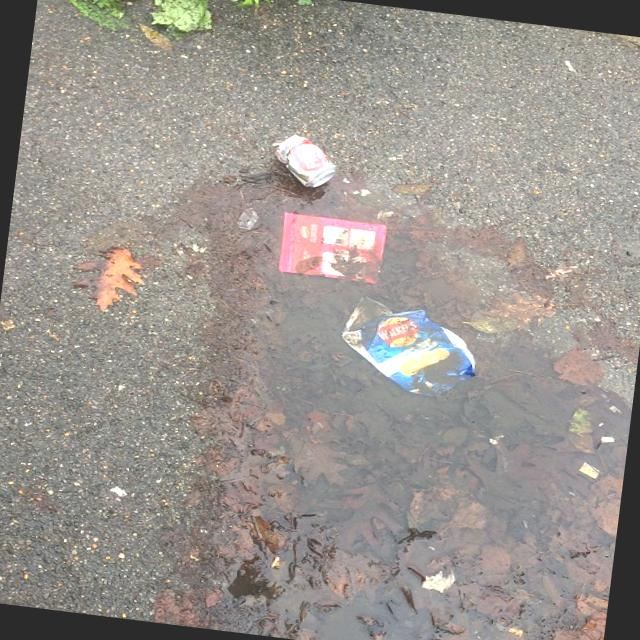Trash: (334, 292, 484, 404), (274, 205, 389, 288), (262, 130, 342, 192)
